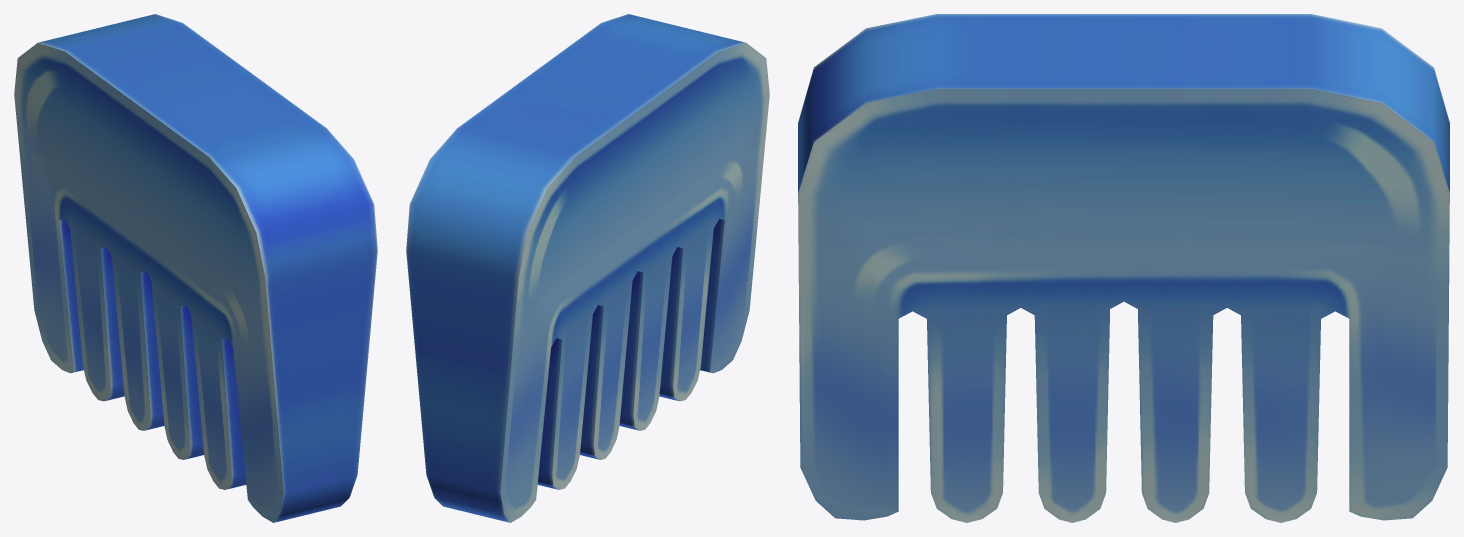
File: MetalComb.fbx
3 renders of one model, left to right at view 1: azimuth 30°, elevation 25°; view 2: azimuth 150°, elevation 25°; view 3: azimuth 270°, elevation 25°, orthographic. The views are drawn at different scales.
Visible parts, largest first — view 1: MetalComb; view 2: MetalComb; view 3: MetalComb.
Boxes of the visible parts, x1,y1,x2,y2 form: MetalComb: (14,14,377,522); MetalComb: (406,14,769,522); MetalComb: (798,14,1449,522).
Bounding box in the file's own units: 25.18 × 70.54 × 93.
